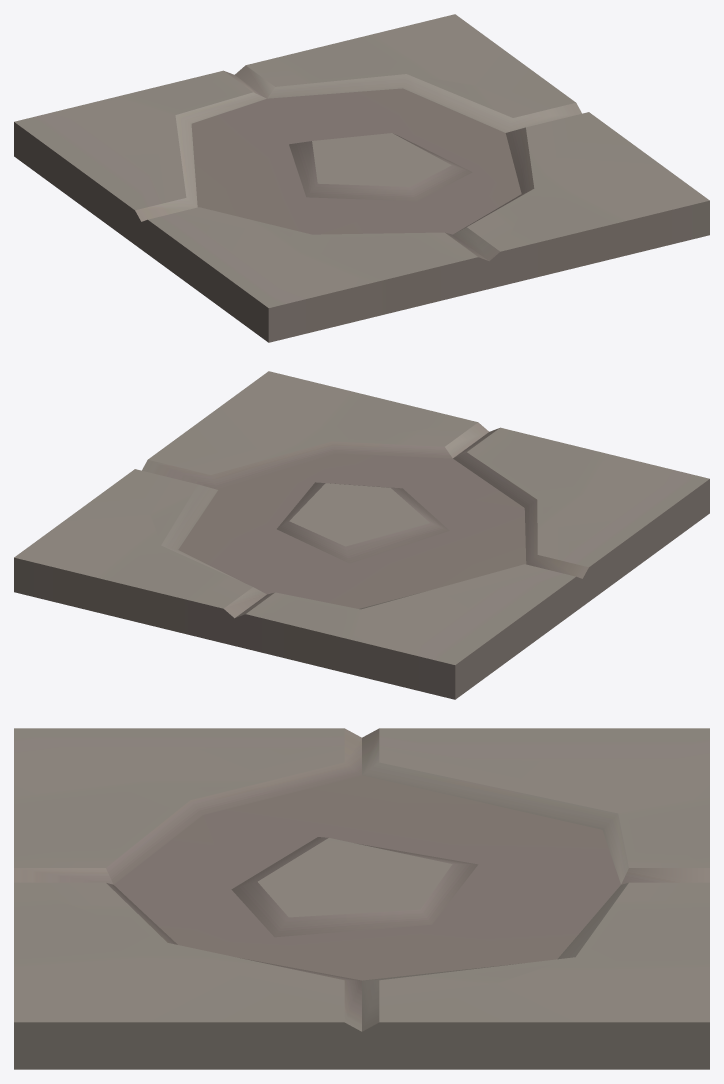
File: kaykit-dungeon-remastered-floor-tile-small-broken-a-gltf.glb
3 views of the same model, one above another, from view 1: azimuth 30°, elevation 25°; view 2: azimuth 150°, elevation 25°; view 3: azimuth 270°, elevation 25° (orthographic). The views are drawn at different scales.
Parts seen in each view (by area): view 1: floor_tile_small_broken_A; view 2: floor_tile_small_broken_A; view 3: floor_tile_small_broken_A.
Boxes of the visible parts, x1,y1,x2,y2 form: floor_tile_small_broken_A: (14,14,709,342); floor_tile_small_broken_A: (14,371,709,699); floor_tile_small_broken_A: (14,728,709,1069).
Size of the model in its own units: 2 by 0.1499 by 2.
1 material, 1 textured.
